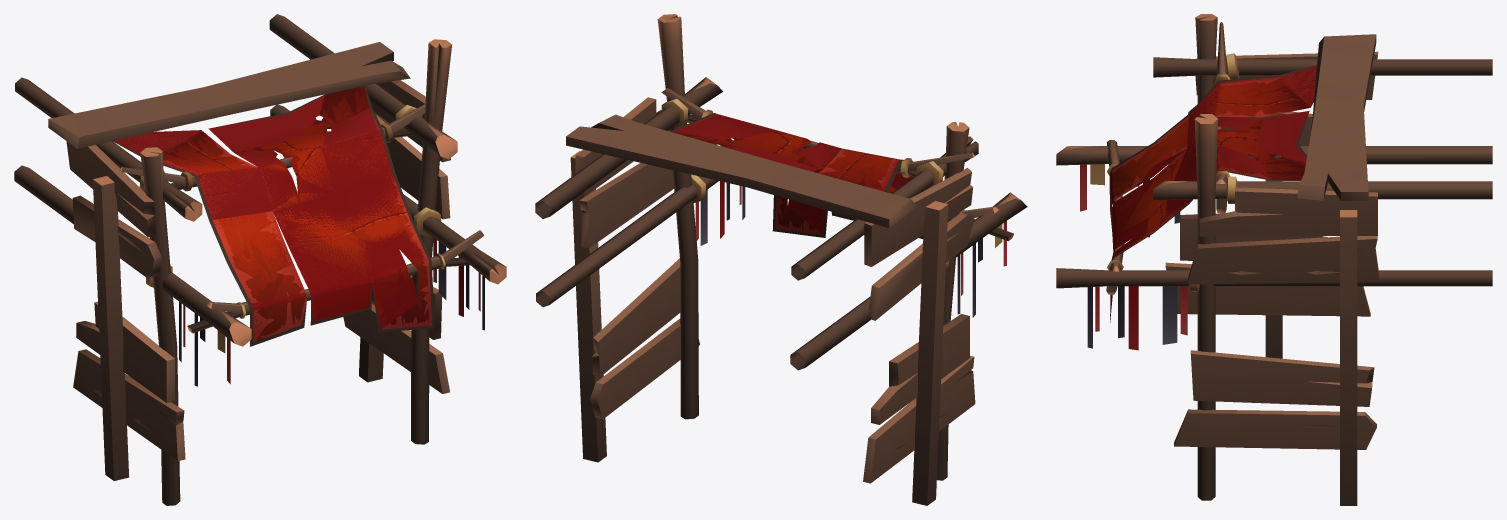
Rendered from Adjacent_Structure_2A.fbx.
The picture shows the model from 3 angles, left to right: view 1: azimuth 30°, elevation 25°; view 2: azimuth 150°, elevation 25°; view 3: azimuth 270°, elevation 25°; orthographic projection.
Parts seen in each view (by area): view 1: Adjacent_Structure_2A; view 2: Adjacent_Structure_2A; view 3: Adjacent_Structure_2A.
Part boxes in pixels (bbox=[...]): Adjacent_Structure_2A: bbox=[14, 14, 506, 505]; Adjacent_Structure_2A: bbox=[535, 14, 1027, 505]; Adjacent_Structure_2A: bbox=[1056, 14, 1492, 505].
Bounding box in the file's own units: 394 × 443 × 450.
